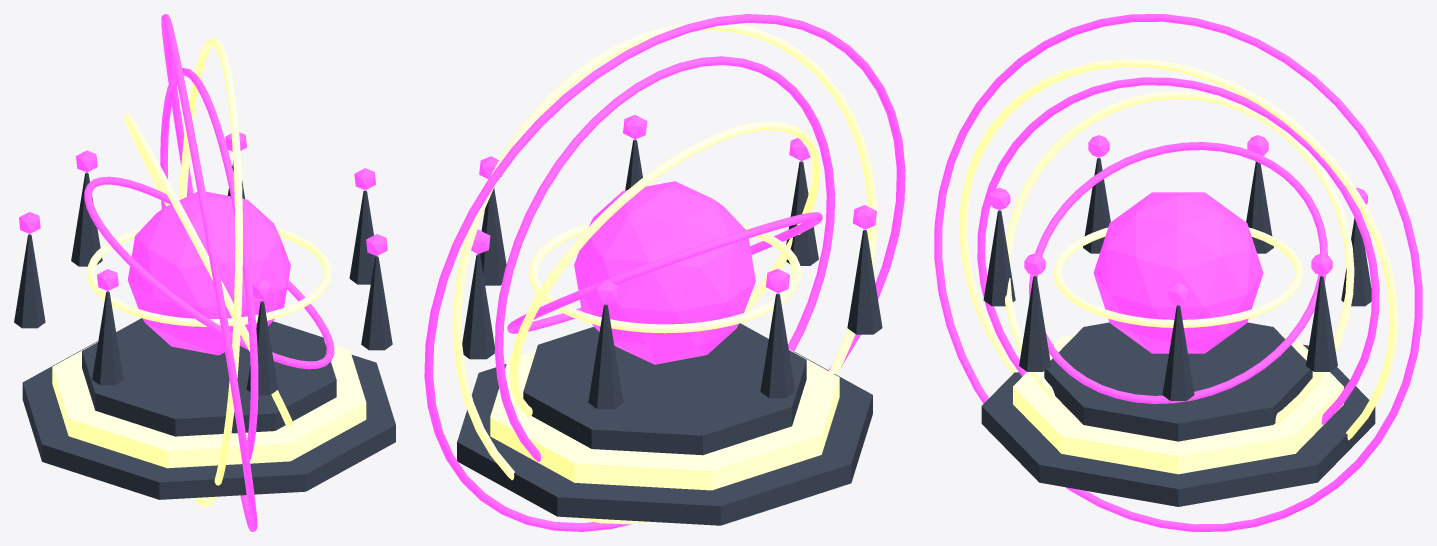
Rendered from gpu-blender-v25.glb.
3 renders of one model, left to right at view 1: azimuth 30°, elevation 25°; view 2: azimuth 150°, elevation 25°; view 3: azimuth 270°, elevation 25°, orthographic. The views are drawn at different scales.
Visible parts, largest first — view 1: Cylinder.002, Cylinder, SovereignCore_zoth-civilization, Cylinder.001, Torus.005, Torus.004, Torus.003, Torus.001, Torus, Torus.002, Cone.003, Cone.006 (+4 smaller); view 2: Cylinder.002, SovereignCore_zoth-civilization, Cylinder, Cylinder.001, Torus.005, Torus.003, Torus.004, Torus.002, Torus.001, Torus, Cone.002, Cone.003 (+4 smaller); view 3: SovereignCore_zoth-civilization, Cylinder.002, Cylinder, Cylinder.001, Torus.005, Torus.004, Torus.003, Torus.002, Torus.001, Torus, Cone, Cone.001 (+5 smaller).
Part boxes in pixels (x1=…): Cylinder.002: x1=82, y1=318, x2=336, y2=436; Cylinder: x1=22, y1=341, x2=395, y2=499; SovereignCore_zoth-civilization: x1=127, y1=191, x2=290, y2=355; Cylinder.001: x1=52, y1=325, x2=366, y2=468; Torus.005: x1=161, y1=14, x2=257, y2=531; Torus.004: x1=179, y1=38, x2=242, y2=507; Torus.003: x1=160, y1=68, x2=258, y2=459; Torus.001: x1=84, y1=176, x2=334, y2=369; Torus: x1=87, y1=227, x2=331, y2=326; Torus.002: x1=124, y1=114, x2=293, y2=426; Cone.003: x1=14, y1=234, x2=45, y2=328; Cone.006: x1=361, y1=256, x2=392, y2=350; Cylinder.002: x1=523, y1=323, x2=806, y2=455; SovereignCore_zoth-civilization: x1=574, y1=181, x2=755, y2=364; Cylinder: x1=457, y1=351, x2=872, y2=525; Cylinder.001: x1=490, y1=330, x2=839, y2=490; Torus.005: x1=424, y1=14, x2=905, y2=531; Torus.003: x1=494, y1=56, x2=835, y2=461; Torus.004: x1=453, y1=22, x2=876, y2=524; Torus.002: x1=509, y1=121, x2=820, y2=416; Torus.001: x1=507, y1=212, x2=822, y2=333; Torus: x1=528, y1=222, x2=801, y2=333; Cone.002: x1=588, y1=304, x2=623, y2=409; Cone.003: x1=760, y1=293, x2=795, y2=398; SovereignCore_zoth-civilization: x1=1093, y1=192, x2=1263, y2=353; Cylinder.002: x1=1044, y1=322, x2=1312, y2=441; Cylinder: x1=981, y1=344, x2=1375, y2=506; Cylinder.001: x1=1013, y1=334, x2=1343, y2=474; Torus.005: x1=934, y1=14, x2=1422, y2=531; Torus.004: x1=959, y1=59, x2=1397, y2=440; Torus.003: x1=977, y1=77, x2=1379, y2=424; Torus.002: x1=1005, y1=91, x2=1354, y2=423; Torus.001: x1=1029, y1=142, x2=1327, y2=403; Torus: x1=1053, y1=227, x2=1303, y2=327; Cone: x1=1162, y1=305, x2=1194, y2=400; Cone.001: x1=1306, y1=276, x2=1337, y2=371.
Bounding box in the file's own units: 4.41 × 5.93 × 5.46.
